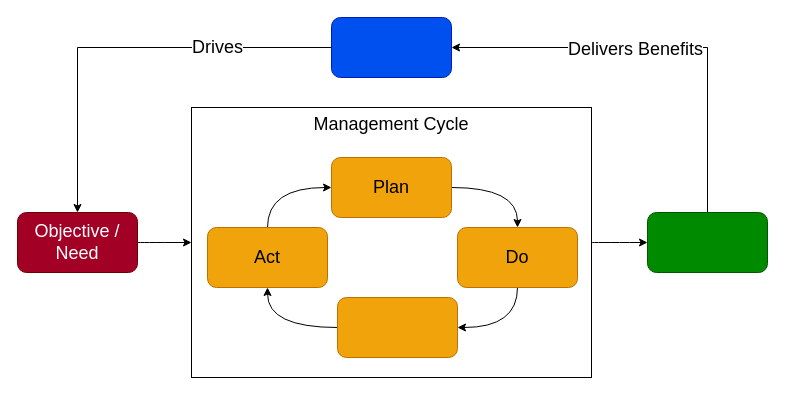
The diagram is 785 pixels wide and 395 high, and some of its shapes have lost their labels. The shapes that lost their labels are listed below. From the top down, each one's centre as x and y in pixels, then its label:
At (391,47): "Organization's Context".
At (707,242): "Outcome / Solution".
At (397,327): "Check".
